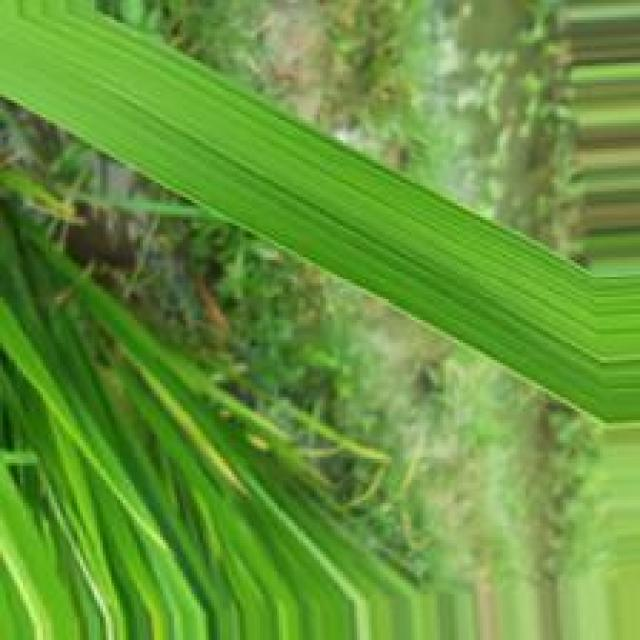HealthyLeaf: (0, 0, 591, 423)
